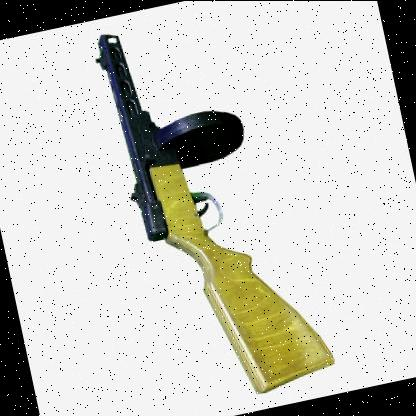rifle: (70, 0, 330, 416)
